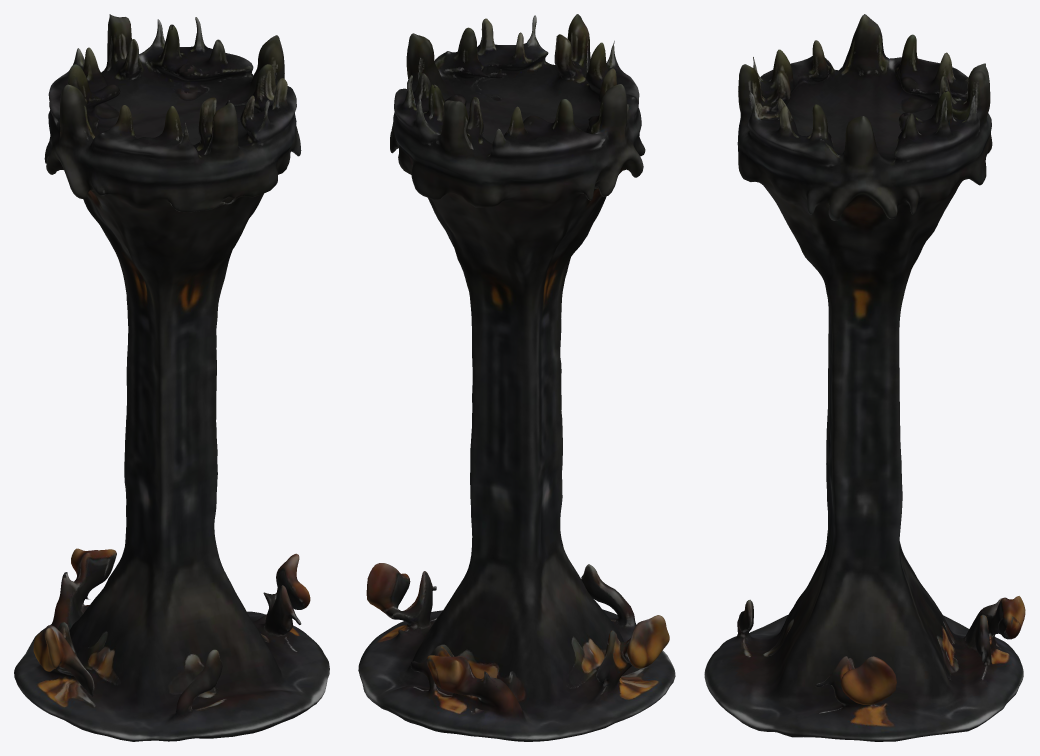
File: 994c710f323b_Design_a_medieval_t.fbx
3 views of the same model, side by side, from view 1: azimuth 30°, elevation 25°; view 2: azimuth 150°, elevation 25°; view 3: azimuth 270°, elevation 25° (orthographic).
Parts seen in each view (by area): view 1: mesh; view 2: mesh; view 3: mesh.
Part boxes in pixels (bbox=[...]): mesh: bbox=[14, 14, 329, 741]; mesh: bbox=[358, 14, 675, 741]; mesh: bbox=[704, 14, 1025, 741].
Size of the model in its own units: 45.78 by 99.62 by 46.63.
